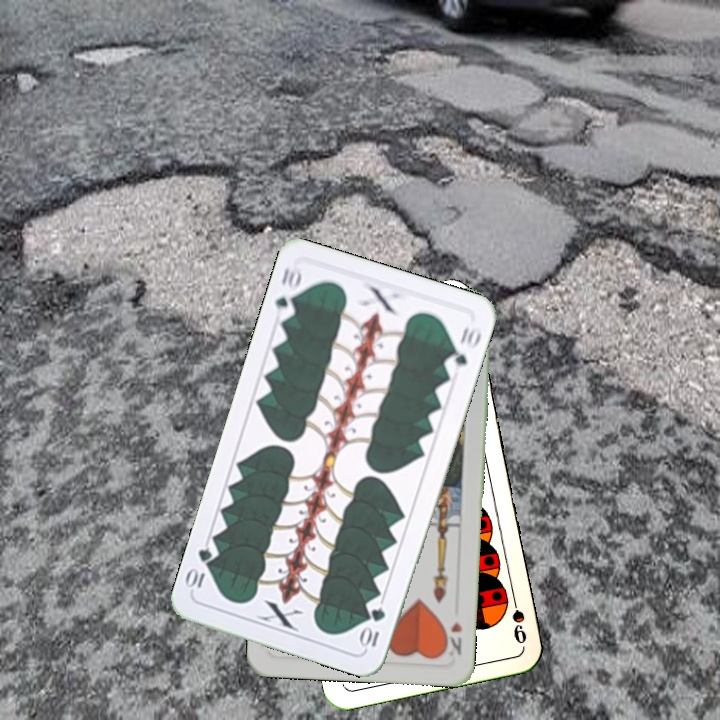G10: (271, 262, 305, 322), (357, 603, 388, 649)
HK: (439, 617, 464, 658)
S9: (507, 588, 529, 647)
